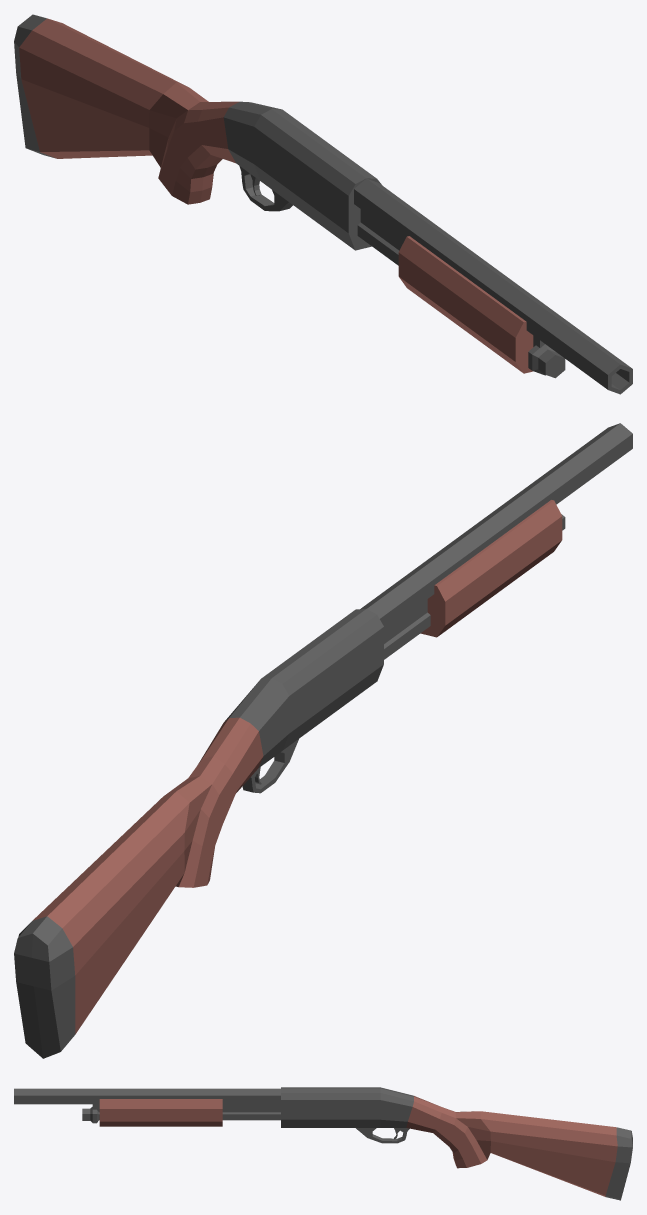
Rendered from Shotgun.fbx.
3 views of the same model, one above another, from view 1: azimuth 30°, elevation 25°; view 2: azimuth 150°, elevation 25°; view 3: azimuth 270°, elevation 25° (orthographic). The views are drawn at different scales.
Parts seen in each view (by area): view 1: Plane; view 2: Plane; view 3: Plane.
Part boxes in pixels (x1,y1,x2,y2): Plane: (14, 14, 632, 394); Plane: (14, 423, 632, 1058); Plane: (14, 1087, 632, 1200).
Size of the model in its own units: 24.6 by 93.05 by 465.
